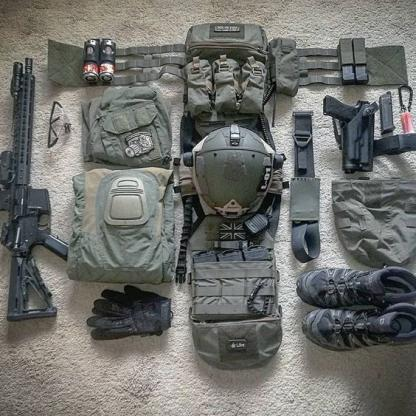Grenade: (99, 37, 118, 82), (83, 37, 99, 82)
Gun: (0, 54, 71, 326)
Pistol: (322, 92, 378, 174)
